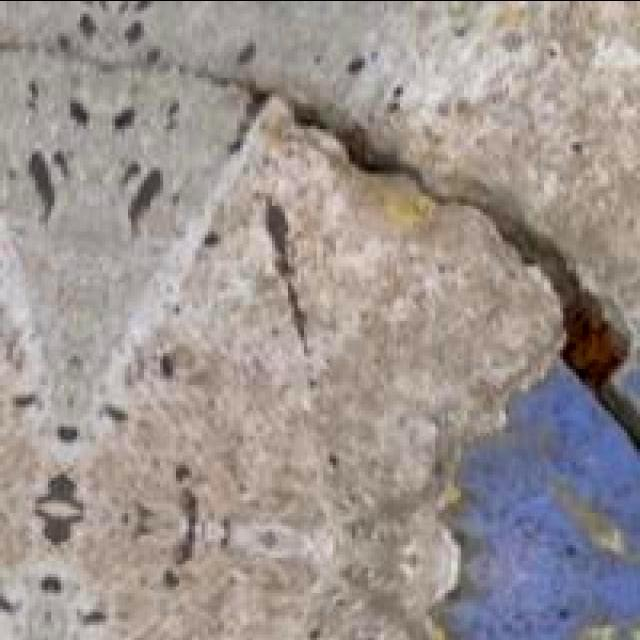SurfaceCrack: (202, 52, 640, 458)
